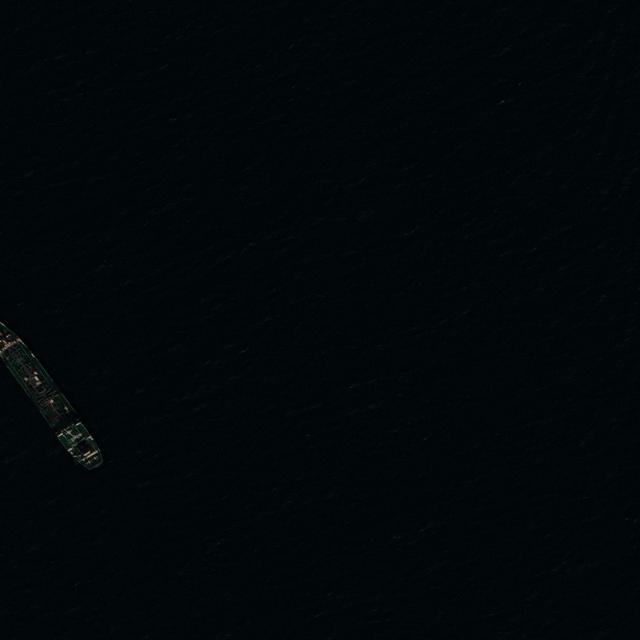Oil Tanker: (1, 319, 105, 471)
